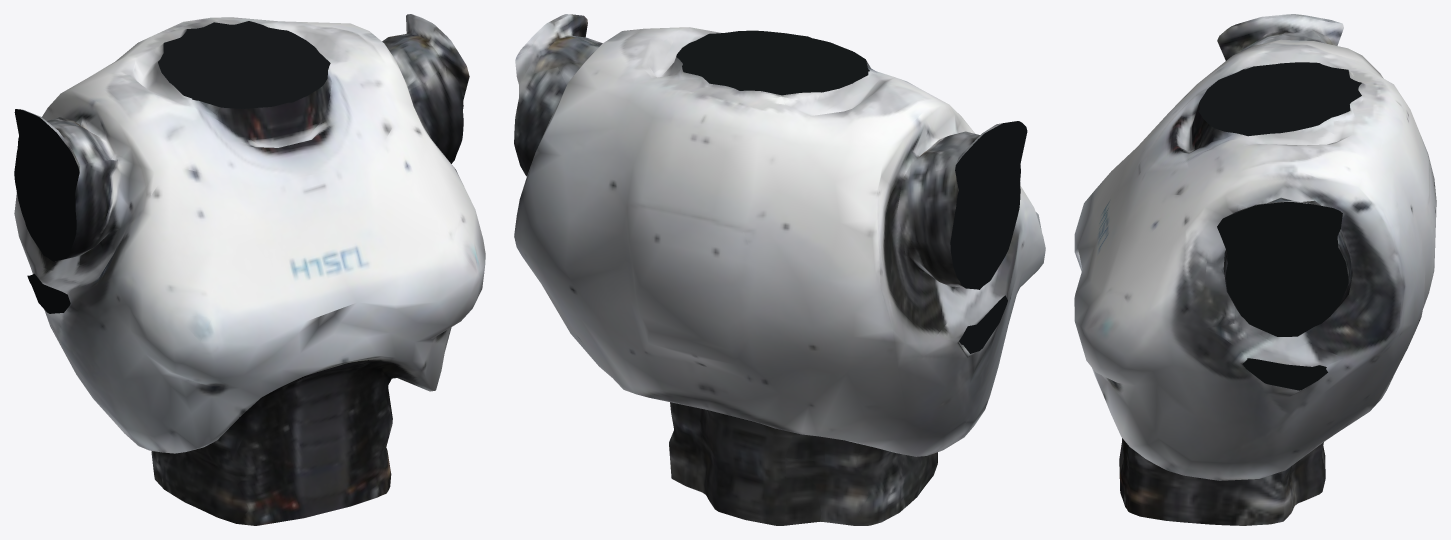
The model's file is torso.obj.
3 views of the same model, side by side, from view 1: azimuth 30°, elevation 25°; view 2: azimuth 150°, elevation 25°; view 3: azimuth 270°, elevation 25° (orthographic). The views are drawn at different scales.
Parts seen in each view (by area): view 1: torso; view 2: torso; view 3: torso.
Part boxes in pixels (x1,y1,x2,y2): torso: (14, 14, 485, 525); torso: (514, 14, 1045, 525); torso: (1074, 14, 1436, 525).
Bounding box in the file's own units: 0.4306 × 0.4178 × 0.3513.
2 materials, 1 textured.
